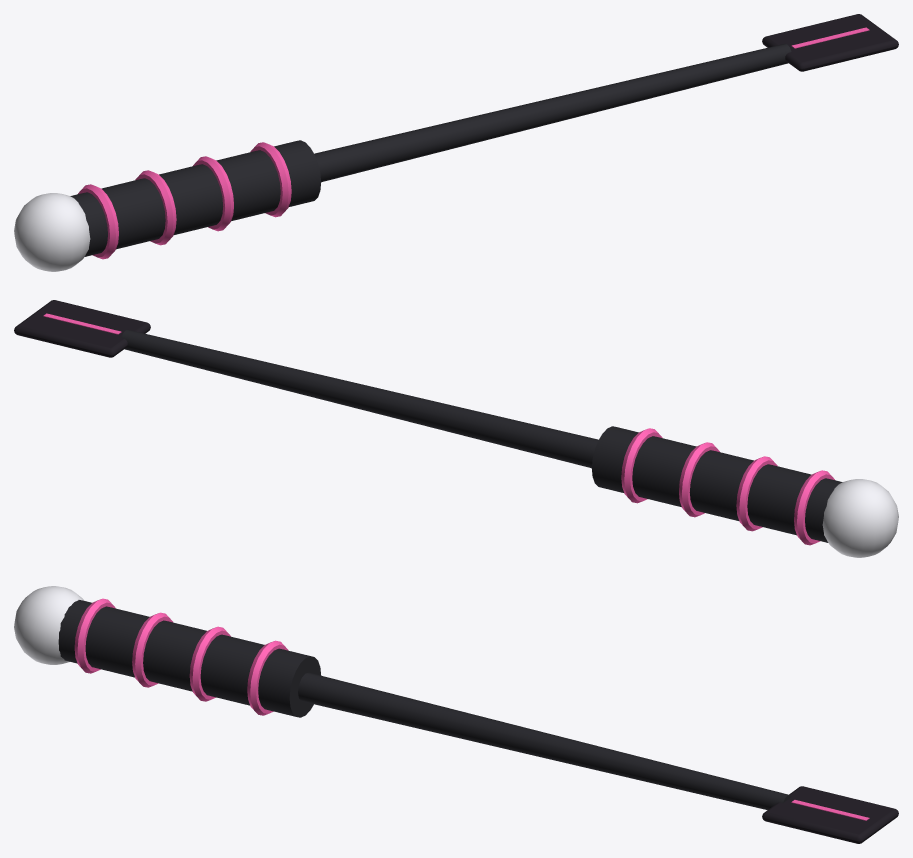
File: Item_LeatherWhip.fbx
3 renders of one model, top to bottom at view 1: azimuth 30°, elevation 25°; view 2: azimuth 150°, elevation 25°; view 3: azimuth 330°, elevation 25°, orthographic.
Visible parts, largest first — view 1: Whip_Handle, Whip_Shaft, Whip_Knob, Whip_Flap, Whip_Wraps; view 2: Whip_Handle, Whip_Shaft, Whip_Knob, Whip_Flap, Whip_Wraps; view 3: Whip_Handle, Whip_Shaft, Whip_Flap, Whip_Wraps, Whip_Knob.
Part boxes in pixels (x1,y1,x2,y2): Whip_Handle: (70, 140, 321, 256); Whip_Shaft: (314, 44, 791, 181); Whip_Knob: (14, 193, 90, 271); Whip_Flap: (762, 14, 898, 71); Whip_Wraps: (78, 142, 291, 259); Whip_Handle: (591, 426, 842, 542); Whip_Shaft: (121, 330, 598, 467); Whip_Knob: (822, 479, 898, 557); Whip_Flap: (14, 300, 150, 357); Whip_Wraps: (621, 428, 834, 545); Whip_Handle: (58, 600, 321, 717); Whip_Shaft: (298, 672, 791, 809); Whip_Flap: (762, 786, 898, 843); Whip_Wraps: (74, 598, 288, 715); Whip_Knob: (14, 586, 83, 664).
Bounding box in the file's own units: 0.2995 × 0.024 × 0.024.
